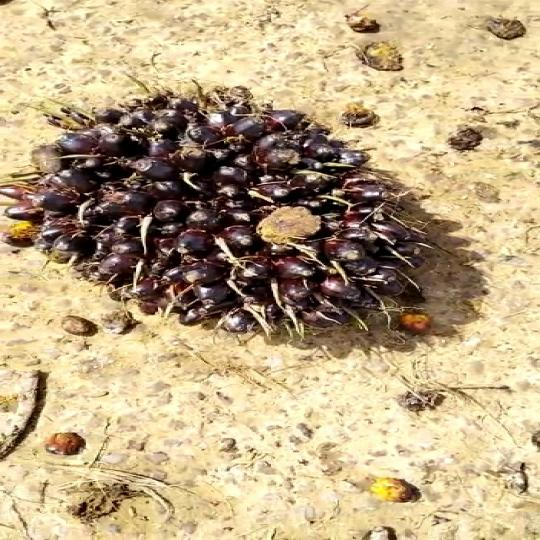mentah: (39, 60, 483, 378)
